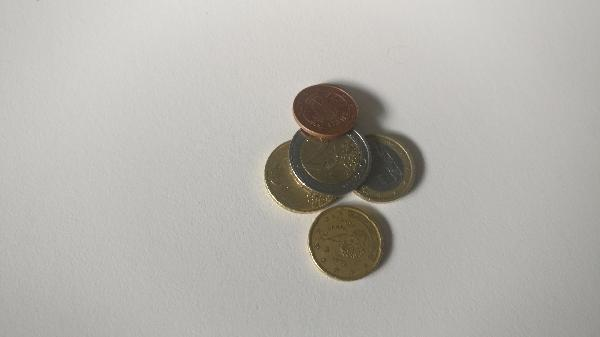Fifty Cent: (263, 139, 339, 210)
Five Cent: (291, 83, 359, 139)
One Euro: (357, 132, 412, 203)
Twenty Cent: (309, 205, 384, 282)
Two Euro: (290, 125, 370, 192)
